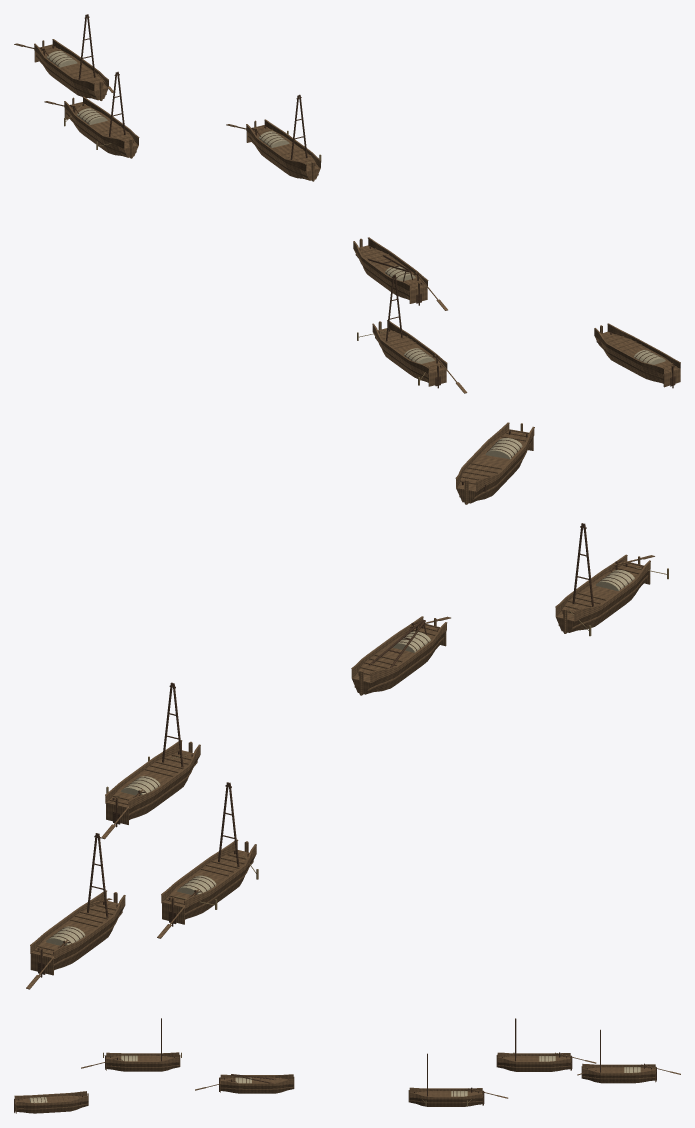
File: boats.glb
The picture shows the model from 3 angles, top to bottom: view 1: azimuth 30°, elevation 25°; view 2: azimuth 150°, elevation 25°; view 3: azimuth 270°, elevation 25°; orthographic projection. The views are drawn at different scales.
Parts seen in each view (by area): view 1: boat_repair_hull, boat_cao_a_hull, boat_ke_a_hull, boat_cao_b_hull, boat_ke_b_hull, boat_cao_hero_hull; view 2: boat_cao_b_hull, boat_ke_a_hull, boat_ke_b_hull, boat_cao_a_hull, boat_cao_hero_hull, boat_repair_hull; view 3: boat_cao_b_hull, boat_repair_hull, boat_ke_b_hull, boat_cao_a_hull, boat_ke_a_hull, boat_cao_hero_hull.
Boxes of the visible parts, x1,y1,x2,y2 form: boat_repair_hull: (594,323,680,387); boat_cao_a_hull: (372,320,447,386); boat_ke_a_hull: (246,119,321,181); boat_cao_b_hull: (34,39,108,100); boat_ke_b_hull: (64,96,139,158); boat_cao_hero_hull: (353,237,428,303); boat_cao_b_hull: (30,890,125,975); boat_ke_a_hull: (105,740,200,824); boat_ke_b_hull: (161,839,256,924); boat_cao_a_hull: (555,554,650,633); boat_cao_hero_hull: (351,616,447,695); boat_repair_hull: (455,422,534,504); boat_cao_b_hull: (581,1063,656,1083); boat_repair_hull: (14,1091,88,1113); boat_ke_b_hull: (496,1052,571,1071); boat_cao_a_hull: (105,1052,180,1071); boat_ke_a_hull: (408,1087,483,1106); boat_cao_hero_hull: (219,1074,294,1093).
Bounding box in the file's own units: 21.99 × 8.68 × 102.
Materials: 4 (4 with a texture image).
